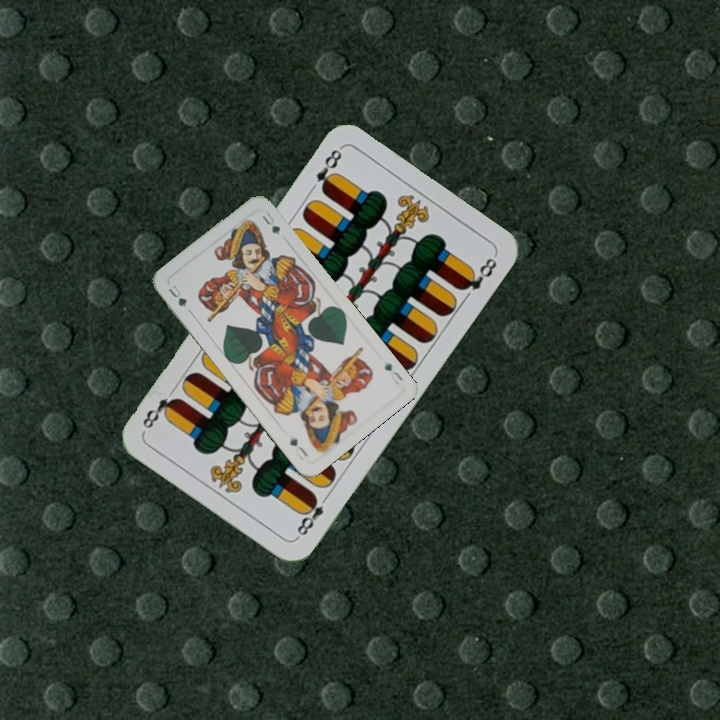E8: (292, 490, 333, 541), (311, 144, 345, 197)
GU: (164, 280, 190, 310), (380, 359, 406, 384)
